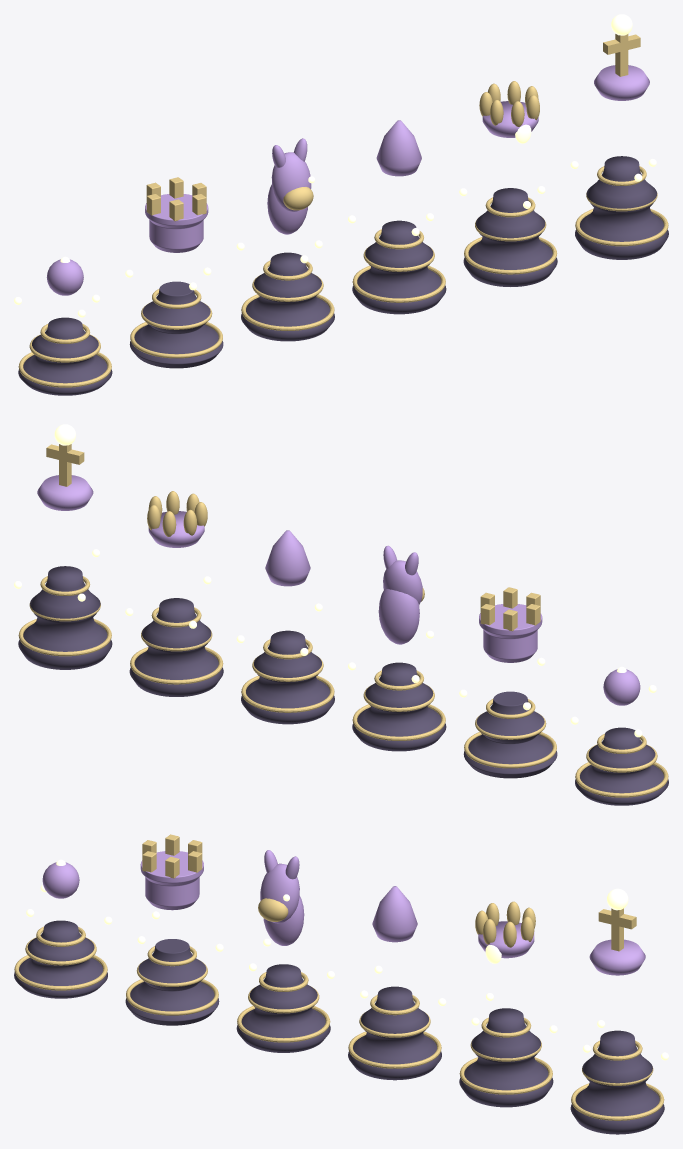
Rendered from 02_Reino_02_6_Piezas.glb.
3 renders of one model, top to bottom at view 1: azimuth 30°, elevation 25°; view 2: azimuth 150°, elevation 25°; view 3: azimuth 330°, elevation 25°, orthographic.
Parts seen in each view (by area): view 1: 02_Reino_02_Torre, 02_Reino_02_Rey, 02_Reino_02_Caballo, 02_Reino_02_Reina, 02_Reino_02_Alfil, 02_Reino_02_Peon; view 2: 02_Reino_02_Torre, 02_Reino_02_Rey, 02_Reino_02_Caballo, 02_Reino_02_Reina, 02_Reino_02_Alfil, 02_Reino_02_Peon; view 3: 02_Reino_02_Rey, 02_Reino_02_Torre, 02_Reino_02_Reina, 02_Reino_02_Caballo, 02_Reino_02_Alfil, 02_Reino_02_Peon.
Boxes of the visible parts, x1,y1,x2,y2 form: 02_Reino_02_Torre: [125, 177, 223, 368]; 02_Reino_02_Rey: [570, 14, 668, 259]; 02_Reino_02_Caballo: [236, 138, 334, 341]; 02_Reino_02_Reina: [459, 81, 557, 286]; 02_Reino_02_Alfil: [348, 120, 446, 314]; 02_Reino_02_Peon: [14, 256, 112, 395]; 02_Reino_02_Torre: [459, 587, 557, 778]; 02_Reino_02_Rey: [14, 424, 112, 669]; 02_Reino_02_Caballo: [348, 545, 446, 751]; 02_Reino_02_Reina: [125, 491, 223, 696]; 02_Reino_02_Alfil: [236, 530, 334, 724]; 02_Reino_02_Peon: [570, 666, 668, 805]; 02_Reino_02_Rey: [570, 888, 668, 1134]; 02_Reino_02_Torre: [125, 834, 223, 1025]; 02_Reino_02_Reina: [459, 901, 557, 1107]; 02_Reino_02_Caballo: [236, 850, 334, 1052]; 02_Reino_02_Alfil: [348, 886, 446, 1080]; 02_Reino_02_Peon: [14, 859, 112, 998].
Size of the model in its own units: 8.16 by 2.77 by 1.09.
